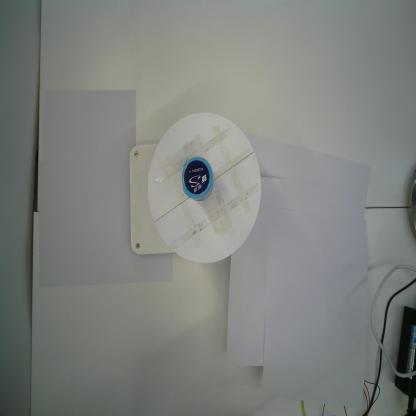Gum: (179, 155, 215, 203)
